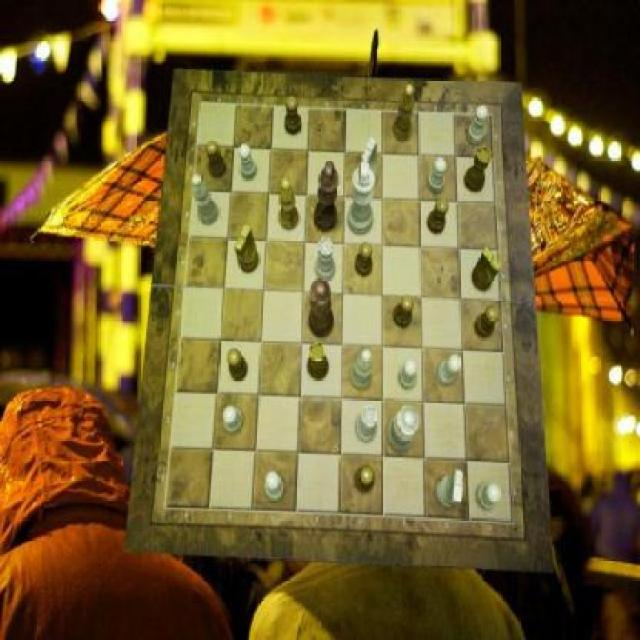bishop: (394, 85, 414, 142), (280, 177, 300, 231)
black-bishop: (314, 160, 338, 232)
black-king: (472, 248, 502, 292), (234, 224, 258, 274)
black-knight: (475, 304, 500, 338), (426, 199, 449, 233), (206, 140, 226, 178), (394, 296, 414, 330), (286, 97, 303, 137), (228, 349, 248, 382), (355, 242, 373, 276), (356, 466, 376, 494)
black-pawn: (309, 278, 334, 338)
black-queen: (465, 146, 492, 192), (306, 342, 329, 379)
black-rook: (192, 173, 220, 224), (351, 351, 374, 391)
white-bishop: (348, 162, 375, 236)
white-king: (435, 469, 463, 508), (358, 137, 378, 188)
white-knight: (468, 106, 488, 146), (437, 354, 461, 386), (238, 144, 258, 180), (428, 158, 448, 194), (477, 483, 501, 511), (398, 358, 418, 391), (266, 472, 286, 500), (223, 406, 243, 434)
white-pawn: (388, 406, 420, 454)
white-queen: (316, 237, 336, 281), (356, 405, 378, 442)
